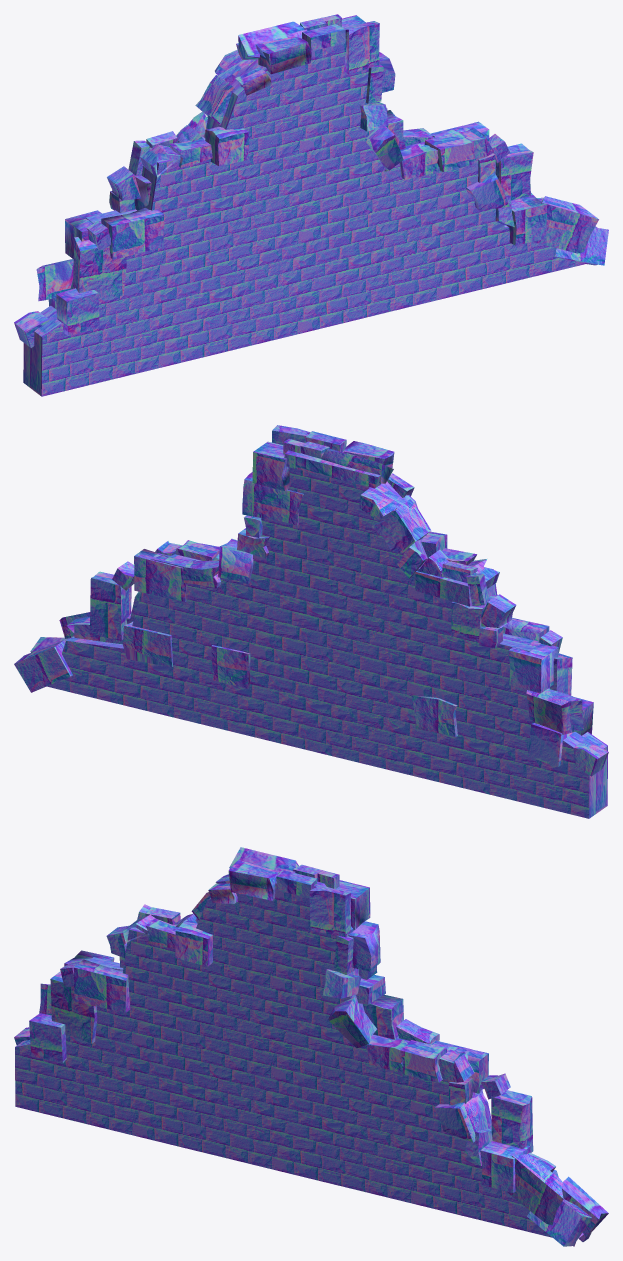
Rendered from SMALL_RUINED_WALL_LOD2.fbx.
3 renders of one model, top to bottom at view 1: azimuth 30°, elevation 25°; view 2: azimuth 150°, elevation 25°; view 3: azimuth 330°, elevation 25°, orthographic.
Visible parts, largest first — view 1: SMALL_RUINED_WALL; view 2: SMALL_RUINED_WALL; view 3: SMALL_RUINED_WALL.
Part boxes in pixels (left/top/right/bottom): SMALL_RUINED_WALL: left=14, top=14, right=608, bottom=396; SMALL_RUINED_WALL: left=14, top=425, right=608, bottom=818; SMALL_RUINED_WALL: left=14, top=847, right=608, bottom=1246.
Size of the model in its own units: 2395 by 1219 by 265.
Materials: 2 (2 with a texture image).
